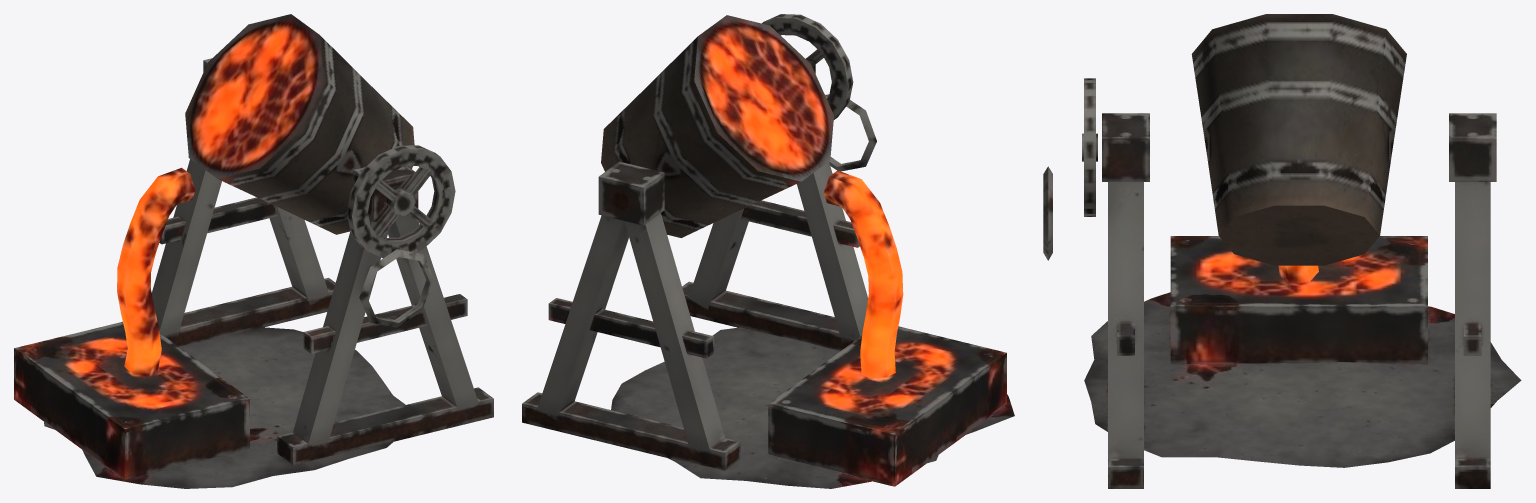
File: foundry_crucible.glb
3 renders of one model, left to right at view 1: azimuth 30°, elevation 25°; view 2: azimuth 150°, elevation 25°; view 3: azimuth 270°, elevation 25°, orthographic. The views are drawn at different scales.
Parts seen in each view (by area): view 1: foundry_crucible; view 2: foundry_crucible; view 3: foundry_crucible.
Part boxes in pixels (<box>): foundry_crucible: <box>14,14,493,488</box>; foundry_crucible: <box>522,14,1014,488</box>; foundry_crucible: <box>1043,14,1521,488</box>.
Size of the model in its own units: 1.61 by 1.53 by 1.6.
1 material, 1 textured.
